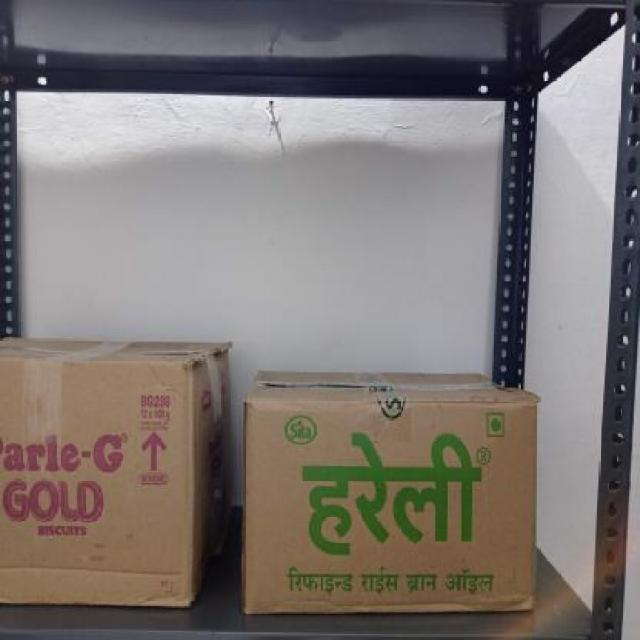box: (248, 400, 537, 614), (0, 361, 191, 603)
